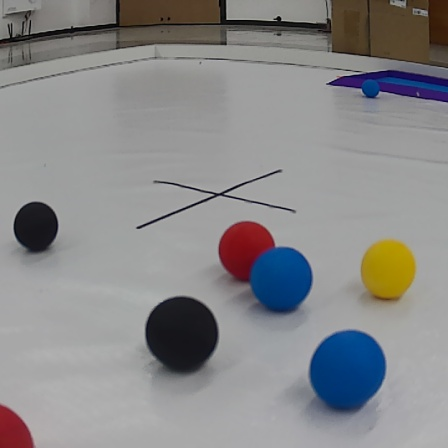black: (143, 292, 220, 374), (13, 201, 64, 250)
blue: (307, 323, 386, 415), (252, 246, 311, 312), (361, 75, 382, 100)
blue_aim: (330, 58, 448, 111)
red: (215, 214, 273, 271), (0, 403, 36, 448)
yellow: (360, 237, 416, 301)
